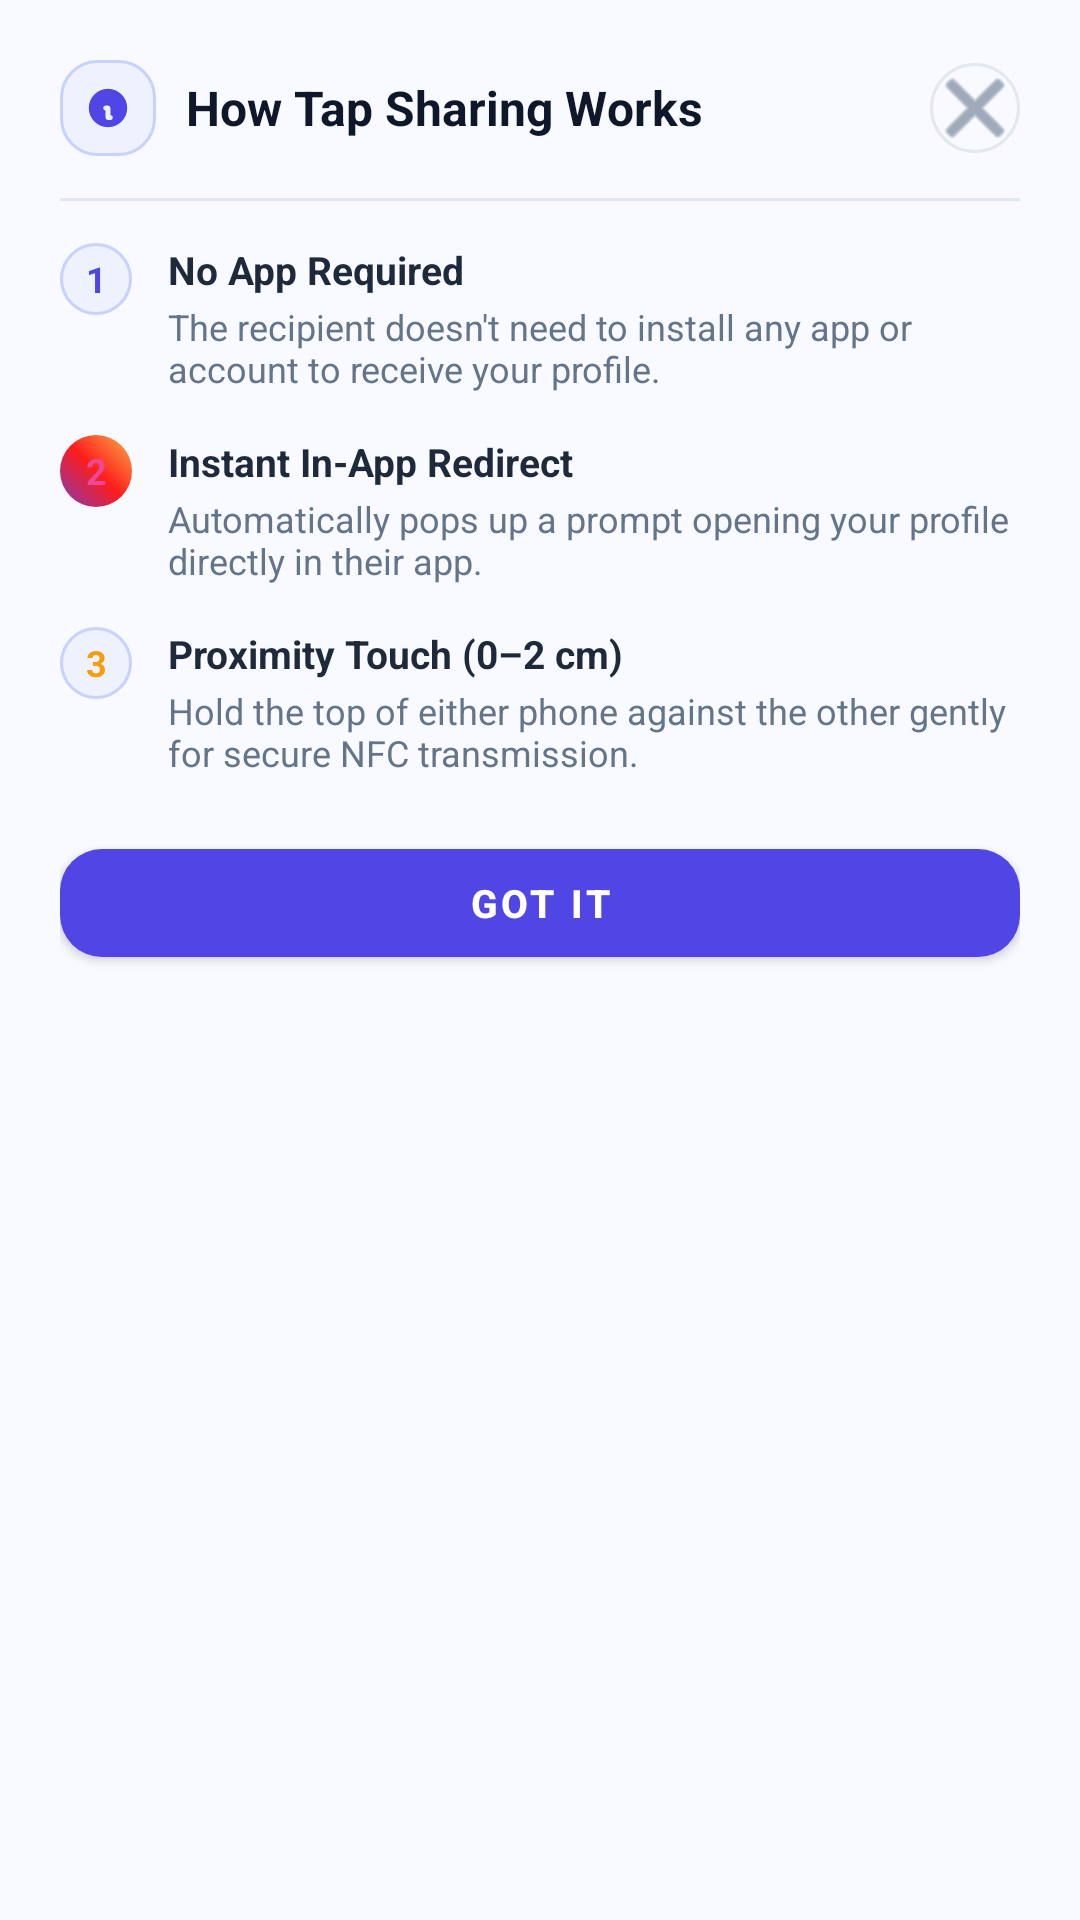

Icons on this 1080×1920 Android screen, each with the point to tap as (x,y):
Close: (975,108)
Info: (108,108)
